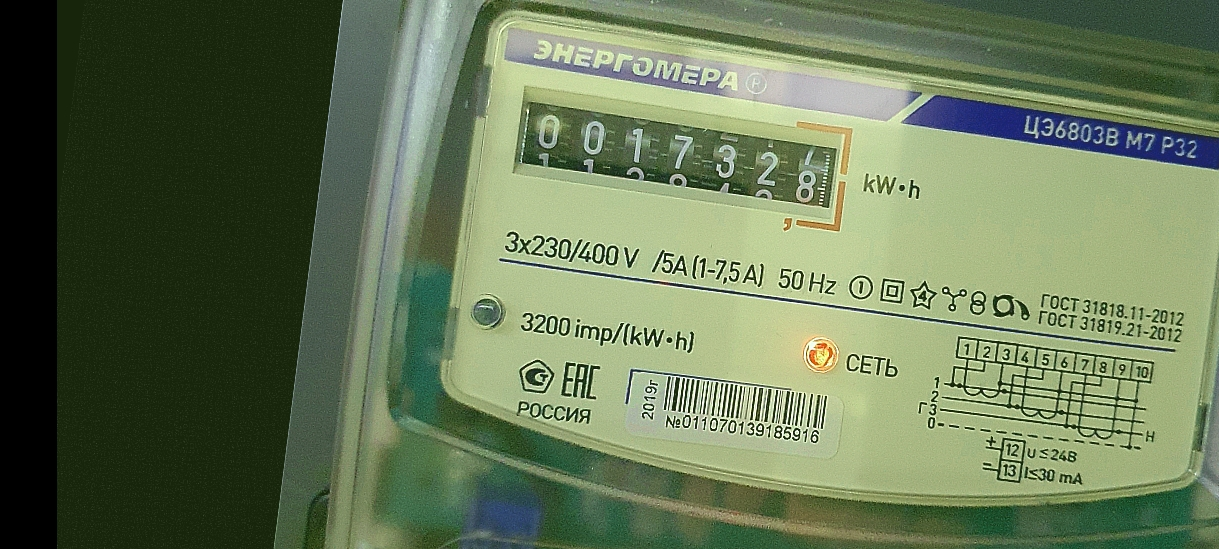0: (534, 109, 564, 151), (581, 116, 608, 157)
1: (625, 123, 648, 165)
2: (755, 148, 781, 187)
3: (714, 141, 740, 179)
7: (669, 130, 696, 172)
8: (794, 165, 817, 203)
screen: (499, 80, 864, 240)
